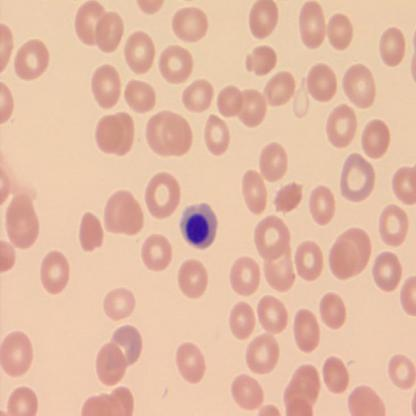NRC: (180, 201, 218, 252)
